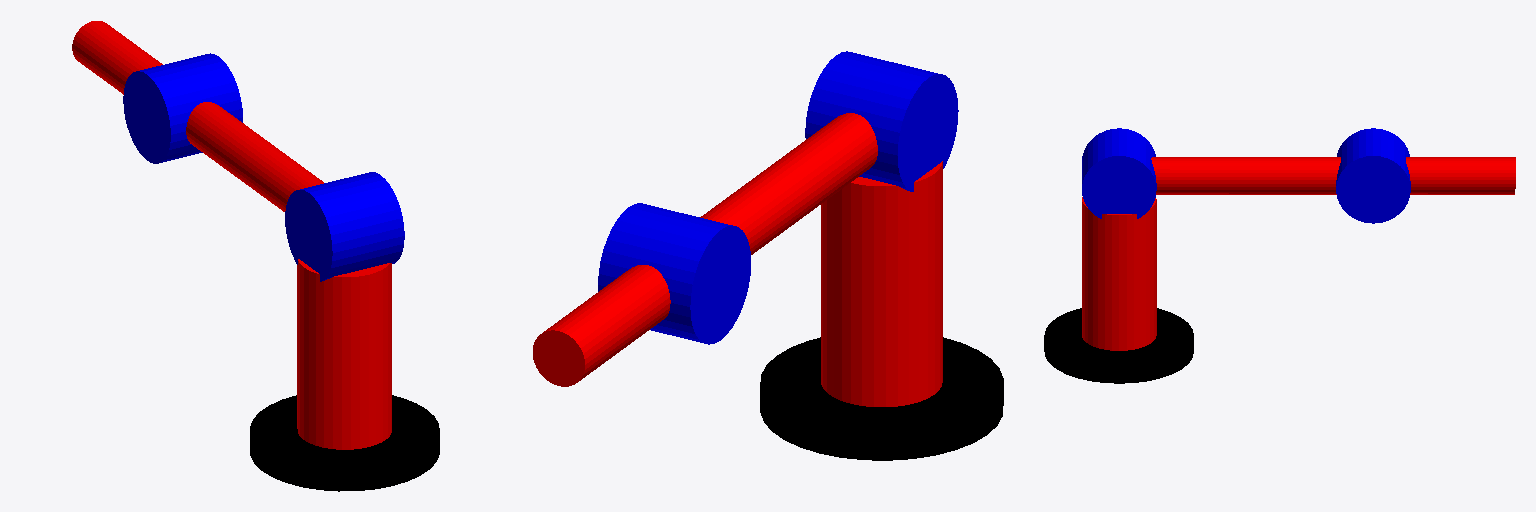
The robot description file, URDF, robot "Bazu":
<?xml version="1.0"?>
<robot name="Bazu">
	
	<link name="world"/>

	<link name="base_link">
		<inertial>
			<origin xyz="0.0 0.0 0.0" rpy="0.0 0.0 0.025"/>
			<mass value="5.0"/>
			<inertia ixx="0.0510" ixy="0.0" ixz="0.0" iyy="0.0510" iyz="0.0" izz="0.1"/>
		</inertial>

		<visual>
			<origin xyz="0.0 0.0 0.025" rpy="0.0 0.0 0.0"/>
			<geometry>
				<cylinder radius="0.2" length="0.05"/>
			</geometry>
			<material name="Black">
				<color rgba="0.0 0.0 0.0 1.0"/>
			</material>
		</visual>

		<collision>
			<origin xyz="0.0 0.0 0.025" rpy="0.0 0.0 0.0"/>
			<geometry>
				<cylinder radius="0.2" length="0.05"/>
			</geometry>
		</collision>
	</link>

	<link name="link_1">
		<inertial>
			<origin xyz="0.0 0.0 0.0" rpy="0.0 0.0 0.025"/>
			<mass value="5.0"/>
			<inertia ixx="0.0792" ixy="0.0" ixz="0.0" iyy="0.0792" iyz="0.0" izz="0.025"/>
		</inertial>

		<visual>
			<origin xyz="0.0 0.0 0.0" rpy="0.0 0.0 0.0"/>
			<geometry>
				<cylinder radius="0.1" length="0.4"/>
			</geometry>
			<material name="Red">
				<color rgba="1.0 0.0 0.0 1.0"/>
			</material>
		</visual>

		<collision>
			<origin xyz="0.0 0.0 0" rpy="0.0 0.0 0.0"/>
			<geometry>
				<cylinder radius="0.1" length="0.4"/>
			</geometry>
		</collision>
	</link>

	<link name="link_fixed">
		<inertial>
			<origin xyz="0.0 0.0 0.0" rpy="0.0 0.0 0.025"/>
			<mass value="5.0"/>
			<inertia ixx="0.0253" ixy="0.0" ixz="0.0" iyy="0.0253" iyz="0.0" izz="0.025"/>
		</inertial>

		<visual>
			<origin xyz="0.0 0.0 0.0" rpy="0.0 1.57 0.0"/>
			<geometry>
				<cylinder radius="0.1" length="0.175"/>
			</geometry>
			<material name="Blue">
				<color rgba="0.0 0.0 1.0 1.0"/>
			</material>
		</visual>

		<collision>
			<origin xyz="0.0 0.0 0.0" rpy="0.0 1.57 0.0"/>
			<geometry>
				<cylinder radius="0.1" length="0.175"/>
			</geometry>
		</collision>
	</link>

	<link name="link_2">
		<inertial>
			<origin xyz="0.0 0.0 0.0" rpy="0.0 0.0 0.025"/>
			<mass value="5.0"/>
			<inertia ixx="0.1531" ixy="0.0" ixz="0.0" iyy="0.1531" iyz="0.0" izz="0.00625"/>
		</inertial>

		<visual>
			<origin xyz="0.0 0.0 0.0" rpy="1.57 0.0 0.0"/>
			<geometry>
				<cylinder radius="0.05" length="0.6"/>
			</geometry>
			<material name="Red">
				<color rgba="1.0 0.0 0.0 1.0"/>
			</material>
		</visual>

		<collision>
			<origin xyz="0.0 0.0 0.0" rpy="0.0 1.57 0.0"/>
			<geometry>
				<cylinder radius="0.1" length="0.175"/>
			</geometry>
		</collision>
	</link>

	<link name="link_fixed2">
		<inertial>
			<origin xyz="0.0 0.0 0.0" rpy="0.0 0.0 0.025"/>
			<mass value="5.0"/>
			<inertia ixx="0.0253" ixy="0.0" ixz="0.0" iyy="0.0253" iyz="0.0" izz="0.025"/>
		</inertial>

		<visual>
			<origin xyz="0.0 0.0 0.0" rpy="0.0 1.57 0.0"/>
			<geometry>
				<cylinder radius="0.1" length="0.175"/>
			</geometry>
			<material name="Blue">
				<color rgba="0.0 0.0 1.0 1.0"/>
			</material>
		</visual>

		<collision>
			<origin xyz="0.0 0.0 0.0" rpy="0.0 1.57 0.0"/>
			<geometry>
				<cylinder radius="0.1" length="0.175"/>
			</geometry>
		</collision>
	</link>

	<link name="link_3">
		<inertial>
			<origin xyz="0.0 0.0 0.0" rpy="0.0 0.0 0.025"/>
			<mass value="5.0"/>
			<inertia ixx="0.0406" ixy="0.0" ixz="0.0" iyy="0.0406" iyz="0.0" izz="0.00625"/>
		</inertial>

		<visual>
			<origin xyz="0.0 0.0 0.0" rpy="1.57 0.0 0.0"/>
			<geometry>
				<cylinder radius="0.05" length="0.3"/>
			</geometry>
			<material name="Red">
				<color rgba="1.0 0.0 0.0 1.0"/>
			</material>
		</visual>

		<collision>
			<origin xyz="0.0 0.0 0.0" rpy="0.0 1.57 0.0"/>
			<geometry>
				<cylinder radius="0.1" length="0.175"/>
			</geometry>
		</collision>
	</link>


	<joint name="joint_base" type="fixed">
		<parent link="world"/>
		<child link="base_link"/>
		<origin xyz="0.0 0.0 0.0" rpy="0.0 0.0 0.0"/>
	</joint>

	<joint name="joint_1" type="revolute">
		<parent link="base_link"/>
		<child link="link_1"/>
		<axis xyz="0 0 1"/>
		<limit lower="-3.14159" upper="3.14159" velocity="50.0" effort="1000.0"/>
		<origin xyz="0.0 0.0 0.25" rpy="0.0 0.0 0.0"/>
	</joint>

	<joint name="joint_fixed" type="revolute">
		<parent link="link_1"/>
		<child link="link_fixed"/>
		<axis xyz="1 0 0"/>
		<limit lower="0" upper="3.14159" velocity="50.0" effort="1000.0"/>
		<origin xyz="0.0 0.0 0.27" rpy="0.0 0.0 0.0"/>
	</joint>
	
	<joint name="joint_2" type="fixed">
		<parent link="link_fixed"/>
		<child link="link_2"/>
		<origin xyz="0.0 0.38 0.0" rpy="0.0 0.0 0.0"/>
	</joint>

	<joint name="joint_fixed2" type="revolute">
		<parent link="link_2"/>
		<child link="link_fixed2"/>
		<axis xyz="1 0 0"/>
		<limit lower="-1.57" upper="1.57" velocity="50.0" effort="1000.0"/>
		<origin xyz="0.0 0.3 0.0" rpy="0.0 0.0 0.0"/>
	</joint>

	<joint name="joint_3" type="fixed">
		<parent link="link_fixed2"/>
		<child link="link_3"/>
		<origin xyz="0.0 0.23 0.0" rpy="0.0 0.0 0.0"/>
	</joint>

	<gazebo reference="base_link">
		<material>Gazebo/Black</material>
	</gazebo>

	<gazebo reference="link_1">
		<material>Gazebo/Orange</material>
	</gazebo>

	<gazebo reference="link_2">
		<material>Gazebo/Orange</material>
	</gazebo>

	<gazebo reference="link_3">
		<material>Gazebo/Orange</material>
	</gazebo>

	<gazebo reference="link_fixed">
		<material>Gazebo/Blue</material>
	</gazebo>

	<gazebo reference="link_fixed2">
		<material>Gazebo/Blue</material>
	</gazebo>

	<gazebo>
		<plugin filename="ignition-gazebo-joint-state-publisher-system" name="ignition::gazebo::systems::JointStatePublisher"/>
	</gazebo>

</robot>

--- Facts derived from the render (not from the file) ---
Views: 3 orthographic renders of the robot side by side, from view 1: azimuth 30°, elevation 25°; view 2: azimuth 150°, elevation 25°; view 3: azimuth 270°, elevation 25°.
Robot: Bazu — 7 links, 6 joints (3 revolute, 3 fixed); root link world; default pose: all joints at 0.
Visible links, largest first — view 1: link_1, base_link, link_fixed, link_fixed2, link_2, link_3; view 2: link_1, base_link, link_fixed2, link_fixed, link_2, link_3; view 3: link_1, link_2, base_link, link_fixed2, link_fixed, link_3.
Link boxes in pixels (box(x1,y1,x2,y2)): link_1: box(297, 259, 391, 449); base_link: box(250, 395, 439, 491); link_fixed: box(285, 172, 404, 281); link_fixed2: box(123, 53, 242, 163); link_2: box(186, 102, 323, 211); link_3: box(72, 21, 162, 94); link_1: box(821, 161, 942, 406); base_link: box(760, 337, 1003, 460); link_fixed2: box(598, 203, 750, 344); link_fixed: box(805, 51, 958, 191); link_2: box(700, 113, 877, 254); link_3: box(533, 265, 670, 386); link_1: box(1082, 197, 1156, 350); link_2: box(1151, 157, 1340, 194); base_link: box(1044, 308, 1193, 383); link_fixed2: box(1336, 128, 1410, 223); link_fixed: box(1082, 128, 1156, 218); link_3: box(1406, 157, 1515, 194).
Size in the robot's own frame: 0.4 by 1.26 by 0.6201 metres.
Geometry: primitives only (box / cylinder / sphere), no mesh files.
